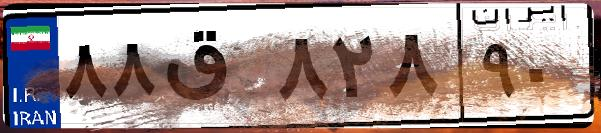0: (525, 38, 570, 115)
2: (330, 28, 385, 110)
8: (270, 28, 330, 110), (385, 28, 445, 110), (57, 26, 110, 100), (110, 28, 158, 98)
9: (475, 38, 525, 113)
ق: (158, 20, 270, 120)
